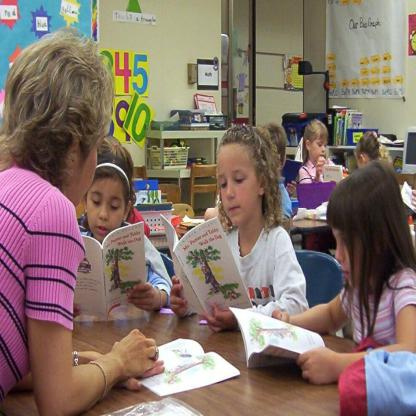face: (68, 117, 109, 207), (219, 146, 260, 227), (87, 177, 125, 243), (333, 228, 371, 289), (311, 135, 328, 163), (275, 145, 287, 173), (357, 154, 369, 171)
